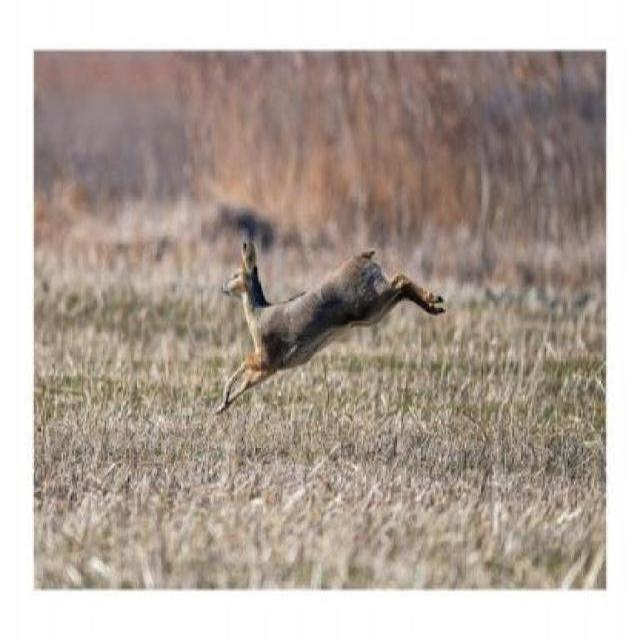deer: (208, 237, 448, 412)
